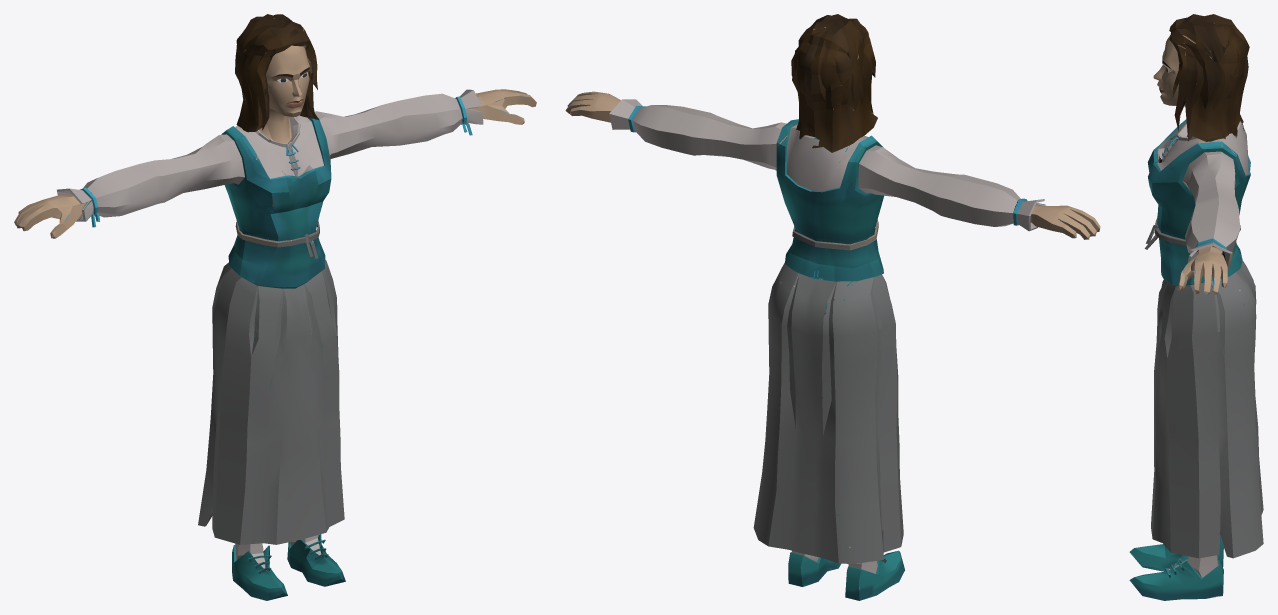
File: Frau1.fbx
The picture shows the model from 3 angles, left to right: view 1: azimuth 30°, elevation 25°; view 2: azimuth 150°, elevation 25°; view 3: azimuth 270°, elevation 25°; orthographic projection. The views are drawn at different scales.
Visible parts, largest first — view 1: PT_Female_Peasant_01_lower_skirt, PT_Female_Peasant_01_upper_short, PT_Female_Naked_head; view 2: PT_Female_Peasant_01_lower_skirt, PT_Female_Peasant_01_upper_short, PT_Female_Naked_head; view 3: PT_Female_Peasant_01_lower_skirt, PT_Female_Peasant_01_upper_short, PT_Female_Naked_head.
Boxes of the visible parts, bbox=[...] form: PT_Female_Peasant_01_lower_skirt: bbox=[198, 259, 345, 600]; PT_Female_Peasant_01_upper_short: bbox=[14, 89, 536, 288]; PT_Female_Naked_head: bbox=[235, 14, 319, 143]; PT_Female_Peasant_01_lower_skirt: bbox=[753, 262, 904, 600]; PT_Female_Peasant_01_upper_short: bbox=[565, 91, 1100, 281]; PT_Female_Naked_head: bbox=[791, 14, 877, 152]; PT_Female_Peasant_01_lower_skirt: bbox=[1129, 261, 1263, 600]; PT_Female_Peasant_01_upper_short: bbox=[1144, 119, 1250, 294]; PT_Female_Naked_head: bbox=[1153, 14, 1249, 141].
Size of the model in its own units: 17508 by 17915 by 3895.
Materials: 3 (3 with a texture image).
